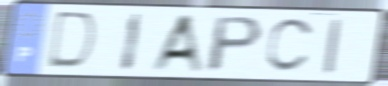A: (148, 12, 208, 76)
C: (263, 16, 318, 75)
D: (43, 9, 100, 73)
I: (118, 11, 146, 74), (321, 16, 345, 77)
P: (203, 14, 267, 75)
